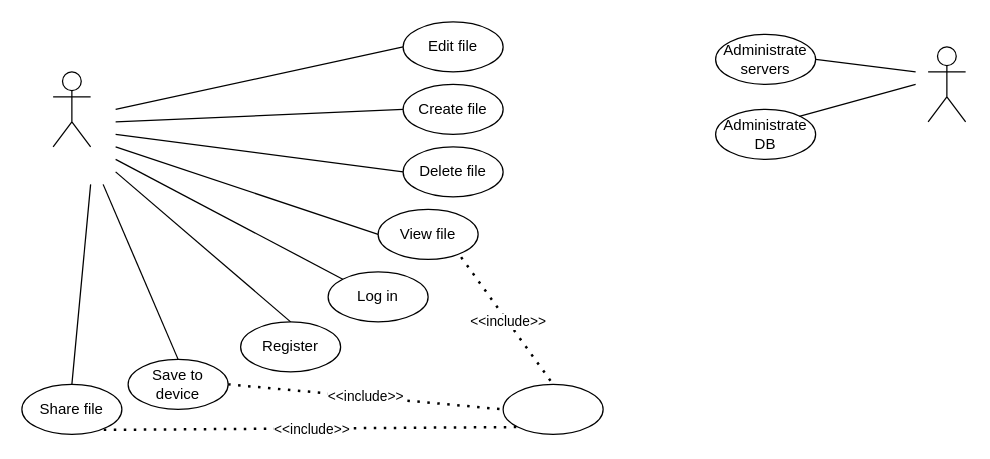
This 990x459 diagram has some shape labels left out. The centre of each missing label's shape, as x and y in pixels:
Admin: point 946,84
Get file data: point 552,408
User: point 71,109
